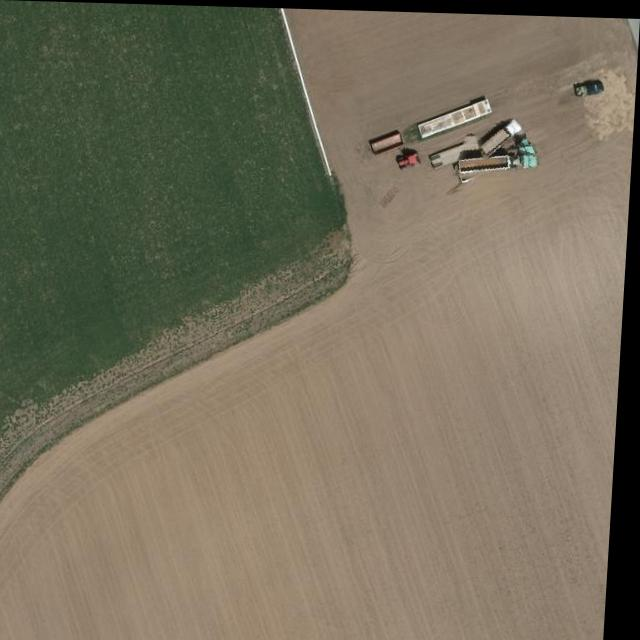vehicle: (456, 134, 543, 191), (477, 114, 530, 154), (573, 76, 607, 97)
